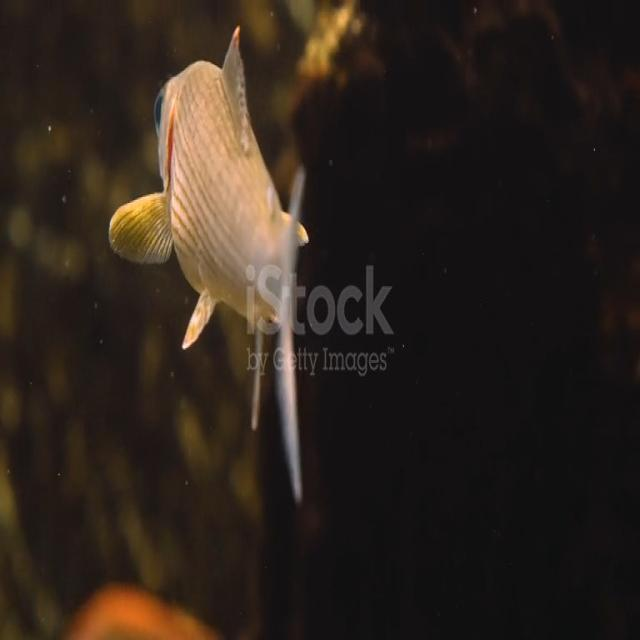fish: (110, 30, 312, 491)
